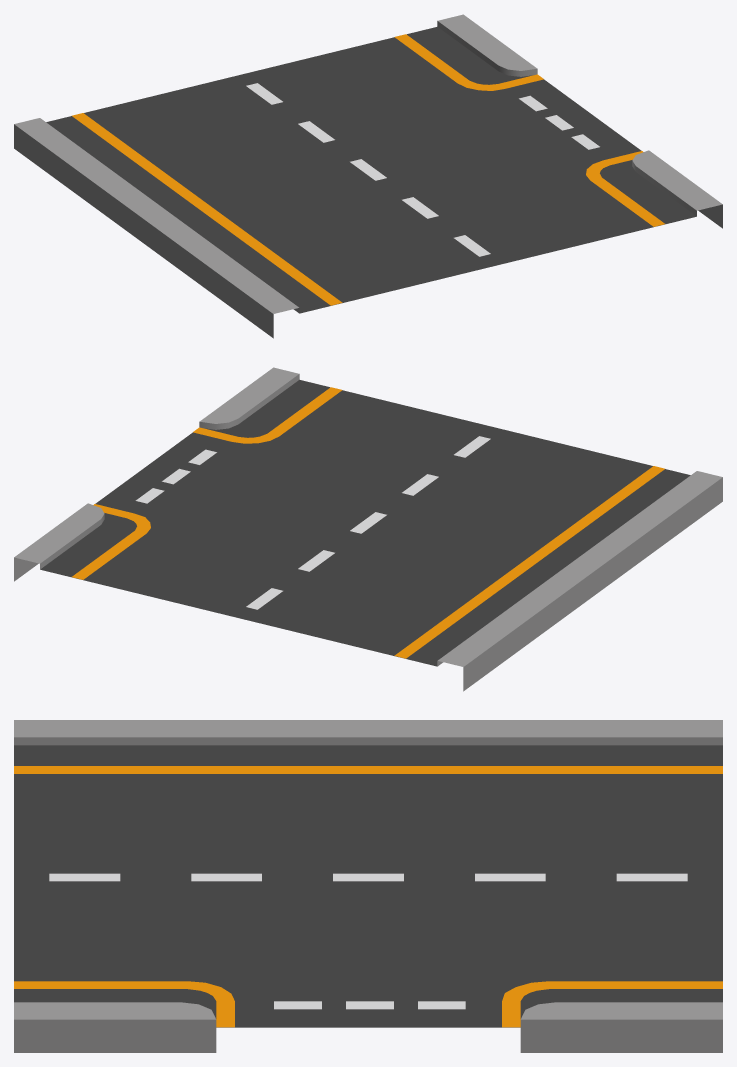
The model's file is Road_A_5.glb.
The picture shows the model from 3 angles, top to bottom: view 1: azimuth 30°, elevation 25°; view 2: azimuth 150°, elevation 25°; view 3: azimuth 270°, elevation 25°; orthographic projection. The views are drawn at different scales.
Visible parts, largest first — view 1: Road_A_5; view 2: Road_A_5; view 3: Road_A_5.
Part boxes in pixels (<box>): Road_A_5: <box>14,14,722,338</box>; Road_A_5: <box>14,367,722,691</box>; Road_A_5: <box>14,720,722,1052</box>.
Bounding box in the file's own units: 8 × 0.4148 × 8.
1 material, 1 textured.
